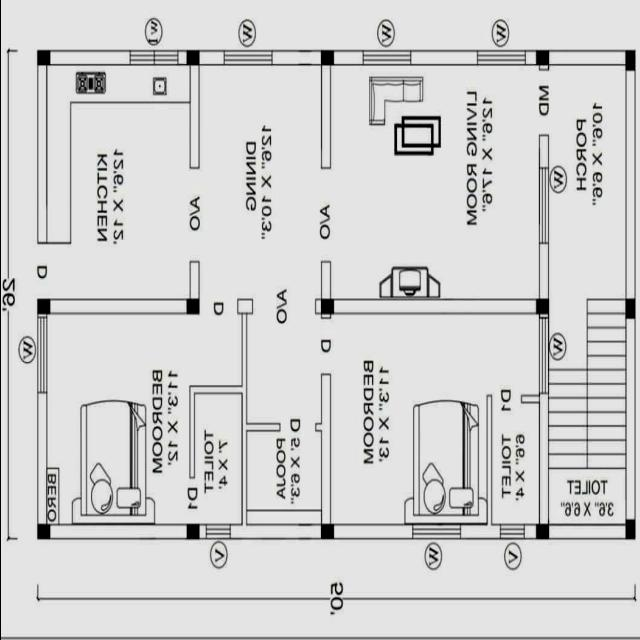Blueprint: (20, 24, 640, 565)
column: (183, 294, 201, 318), (318, 520, 336, 544), (318, 296, 336, 318), (532, 520, 550, 542), (622, 46, 636, 74), (184, 46, 200, 70), (184, 519, 200, 543), (318, 46, 334, 70), (534, 45, 550, 69), (35, 520, 52, 542), (622, 516, 636, 542), (622, 295, 636, 321), (35, 296, 51, 318), (34, 46, 50, 68), (534, 295, 550, 317)
wall: (332, 296, 538, 318), (46, 521, 188, 545), (622, 69, 636, 303), (46, 295, 190, 317), (622, 316, 636, 522), (35, 63, 49, 247), (316, 372, 332, 528), (34, 390, 50, 530), (227, 521, 323, 542), (545, 46, 626, 70), (536, 390, 550, 528), (240, 311, 248, 529), (46, 48, 132, 68), (546, 522, 626, 542), (330, 522, 414, 541), (187, 63, 200, 170), (408, 48, 476, 68), (484, 392, 494, 528), (319, 62, 331, 172), (268, 48, 324, 68), (186, 391, 196, 482), (184, 258, 202, 306), (458, 521, 500, 541), (186, 383, 244, 397), (536, 240, 548, 302), (330, 47, 364, 67), (197, 48, 226, 68), (243, 419, 280, 434), (318, 258, 330, 304), (536, 132, 548, 172), (522, 520, 536, 542), (523, 48, 537, 68)
